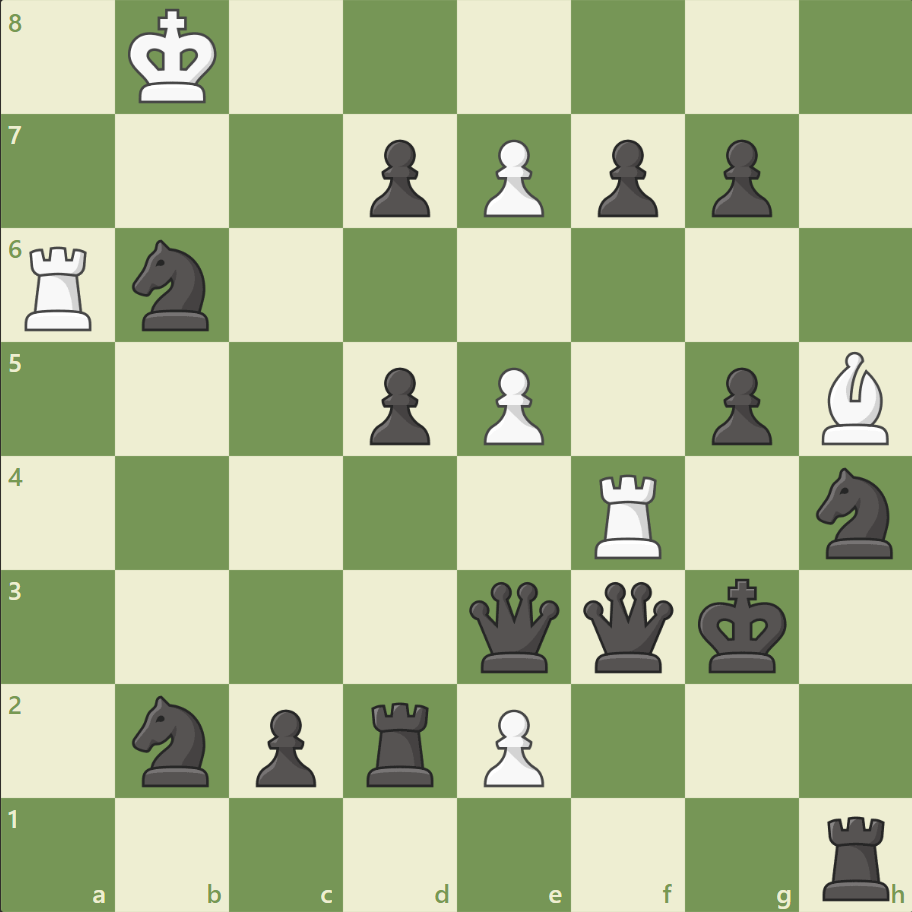B: (812, 347, 896, 449)
K: (124, 4, 224, 112)
P: (474, 132, 549, 223), (474, 359, 549, 450), (474, 700, 549, 791)
R: (19, 239, 102, 336), (587, 466, 670, 563)
k: (692, 571, 792, 679)
n: (124, 234, 222, 337), (124, 688, 222, 791), (806, 461, 903, 564)
p: (701, 132, 776, 223), (701, 359, 776, 450), (247, 700, 322, 791), (361, 132, 435, 223), (588, 132, 662, 223), (361, 359, 435, 450)
q: (464, 576, 563, 676), (578, 576, 677, 676)
r: (814, 806, 897, 904), (360, 693, 442, 790)
